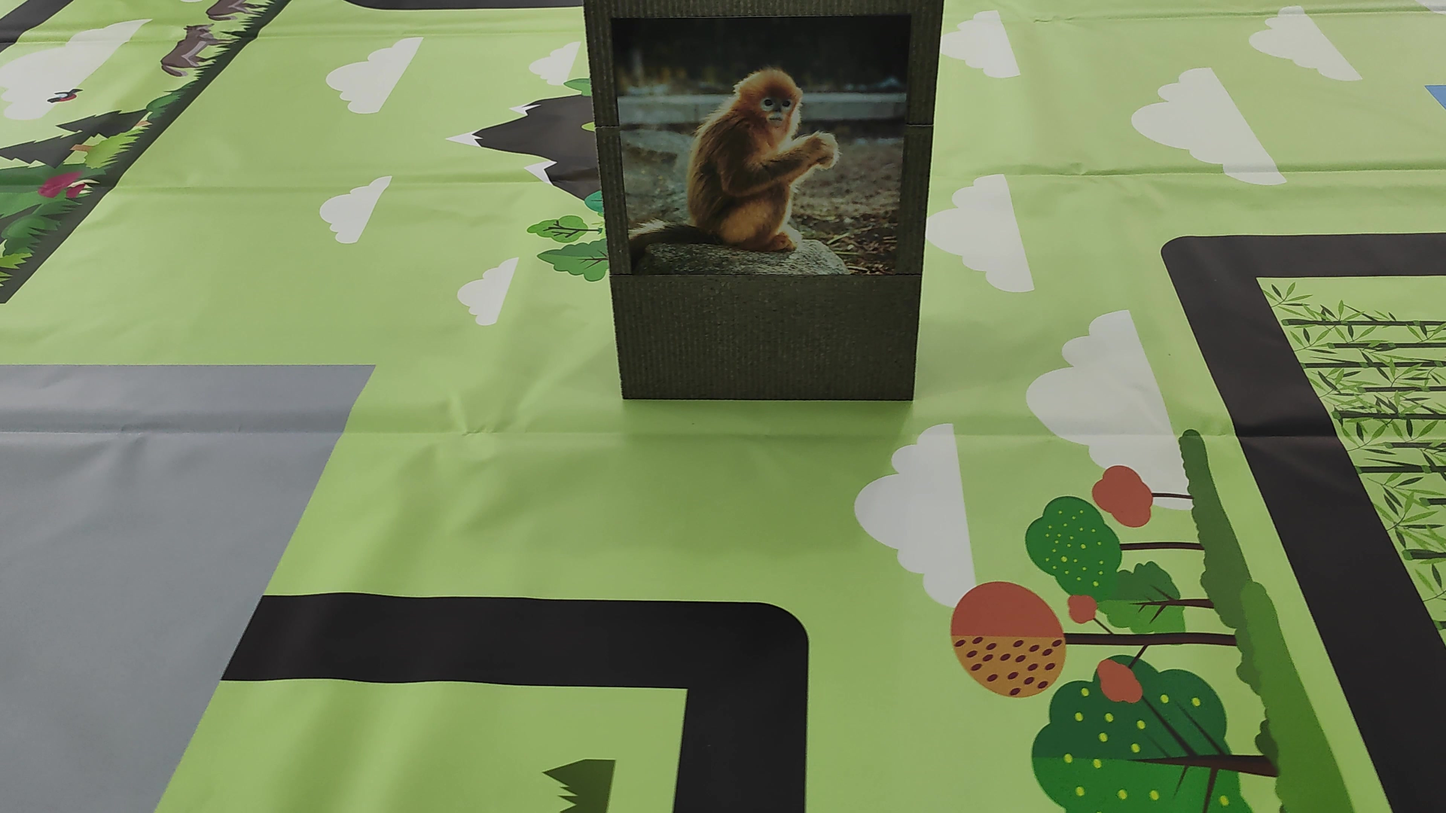monkey: (662, 49, 857, 269)
